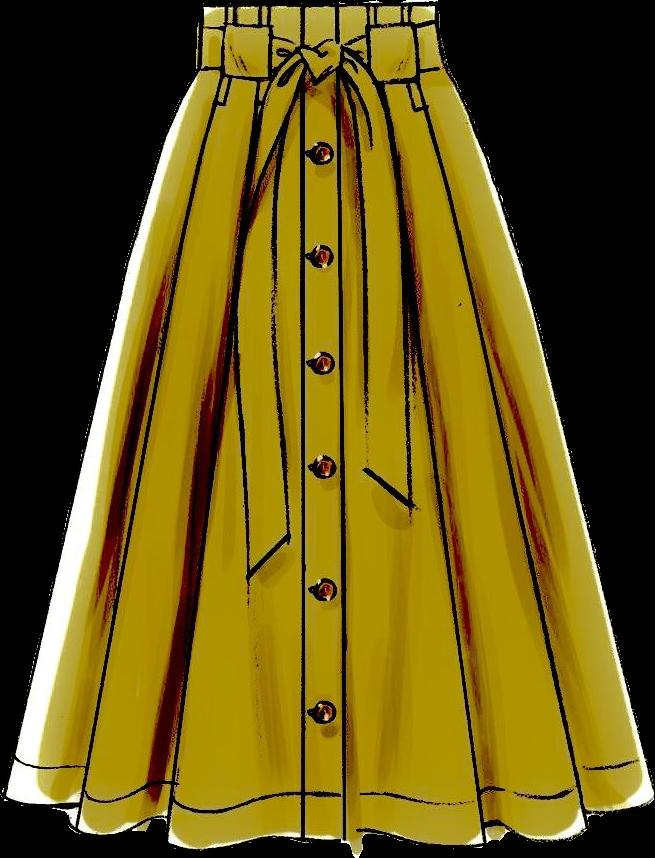Hemline: (0, 790, 654, 854)
Waistline: (196, 0, 437, 15)
